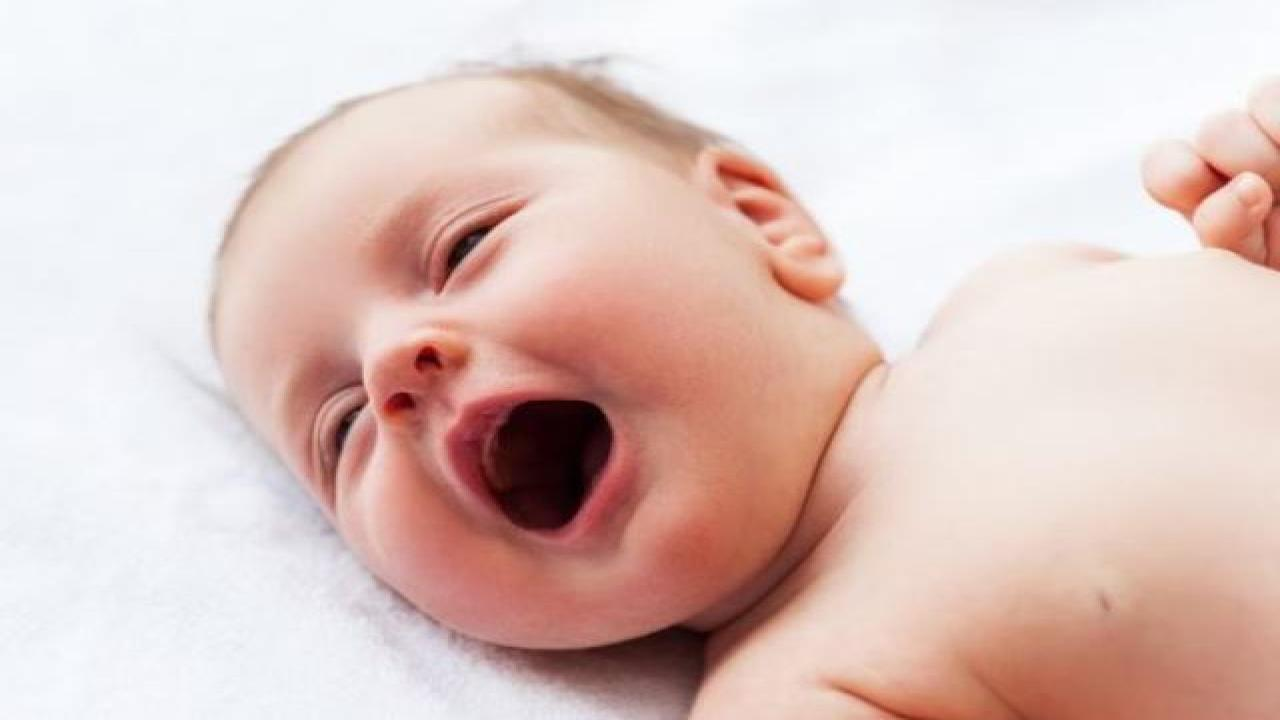hand: (1138, 75, 1276, 274)
